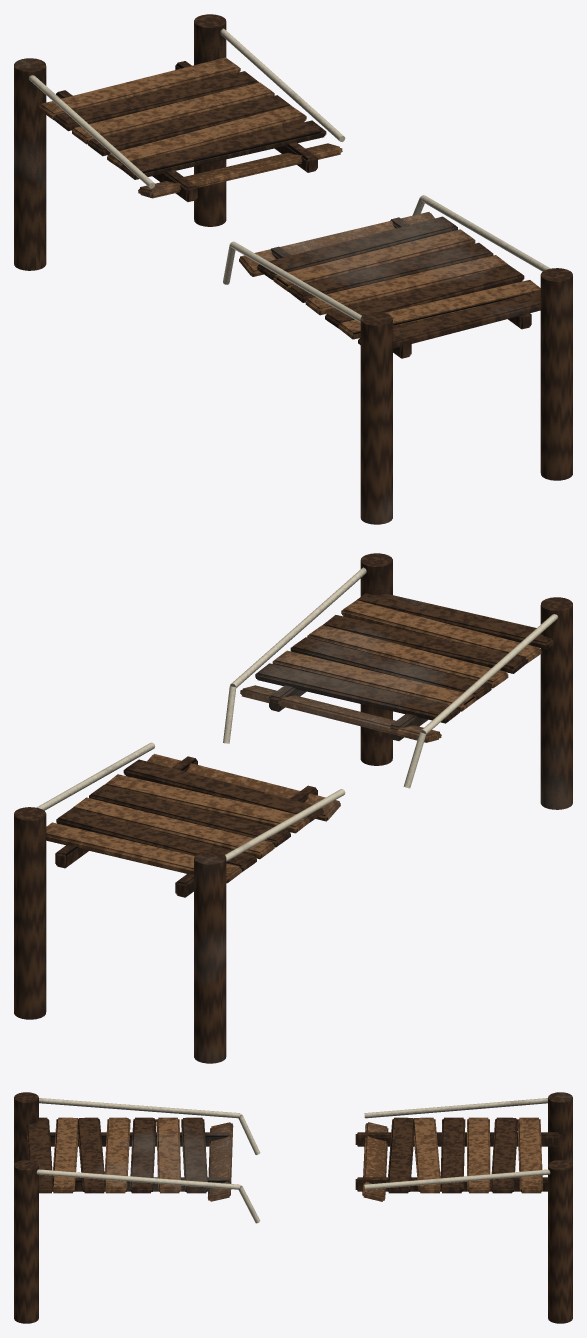
The model's file is cenario_ponte_quebrada.glb.
The picture shows the model from 3 angles, top to bottom: view 1: azimuth 30°, elevation 25°; view 2: azimuth 150°, elevation 25°; view 3: azimuth 270°, elevation 25°; orthographic projection. The views are drawn at different scales.
Visible parts, largest first — view 1: cenario_ponte_quebrada; view 2: cenario_ponte_quebrada; view 3: cenario_ponte_quebrada.
Boxes of the visible parts, x1,y1,x2,y2 form: cenario_ponte_quebrada: (14, 14, 572, 524); cenario_ponte_quebrada: (14, 553, 572, 1063); cenario_ponte_quebrada: (14, 1092, 572, 1323).
Size of the model in its own units: 2.08 by 1.9 by 6.28.
1 material, 1 textured.
